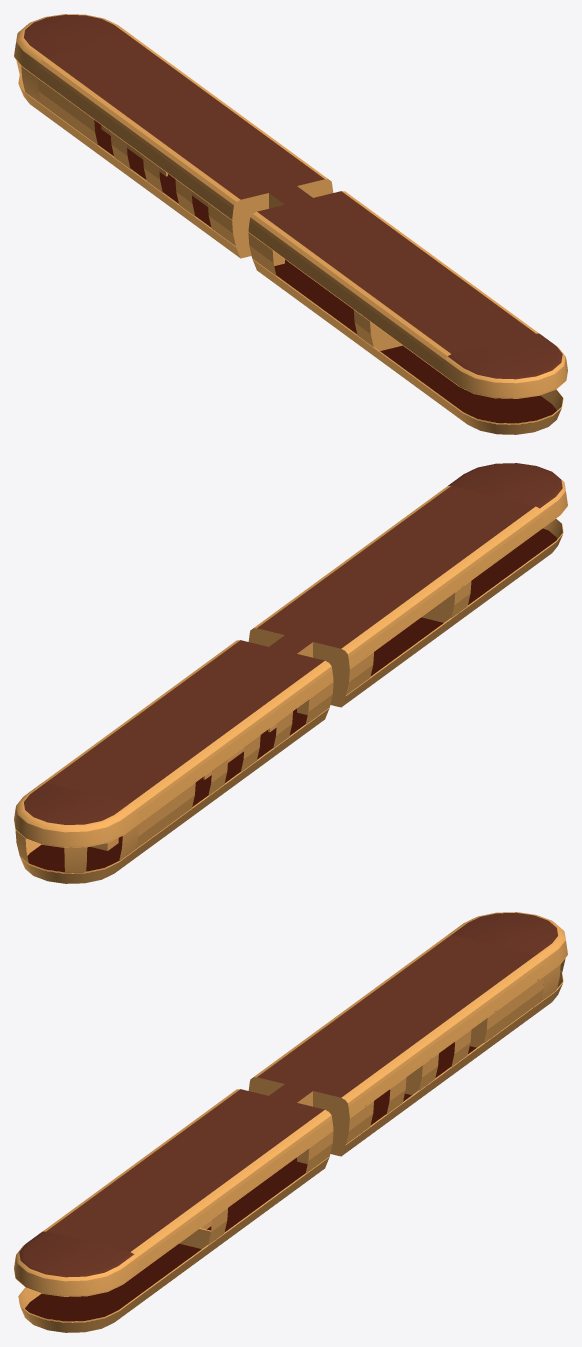
Rendered from Blockout.fbx.
3 renders of one model, top to bottom at view 1: azimuth 30°, elevation 25°; view 2: azimuth 150°, elevation 25°; view 3: azimuth 330°, elevation 25°, orthographic.
Parts seen in each view (by area): view 1: Modular_Wall_Window_Opening.002; view 2: Modular_Wall_Window_Opening.002; view 3: Modular_Wall_Window_Opening.002.
Boxes of the visible parts, x1=… form: Modular_Wall_Window_Opening.002: x1=14, y1=14, x2=567, y2=434; Modular_Wall_Window_Opening.002: x1=14, y1=463, x2=567, y2=883; Modular_Wall_Window_Opening.002: x1=14, y1=912, x2=567, y2=1332.
Size of the model in its own units: 4592 by 542 by 300.
